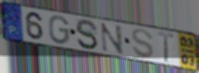6: (25, 11, 45, 42)
G: (48, 15, 71, 46)
N: (99, 22, 125, 56)
S: (74, 18, 100, 51), (130, 28, 155, 60)
T: (156, 30, 175, 64)
